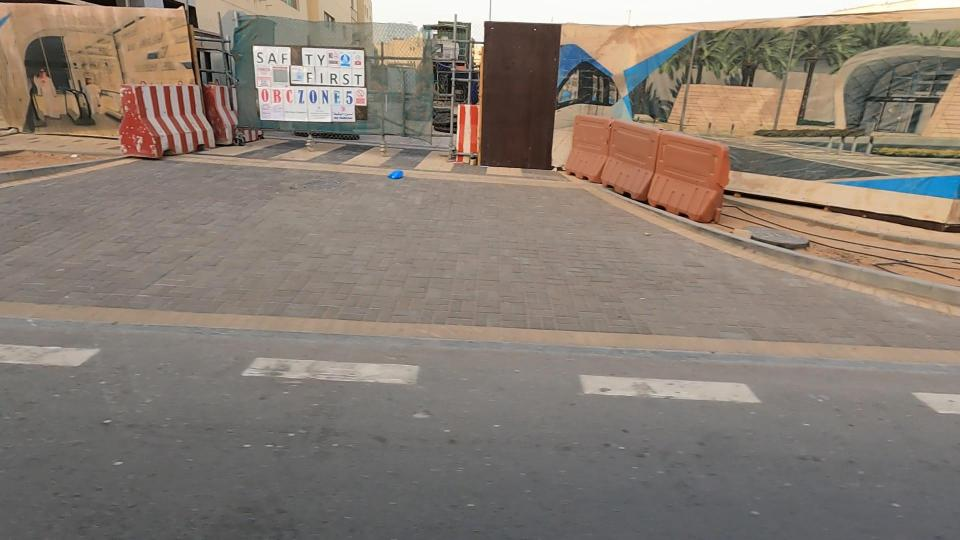GARBAGE: (363, 144, 437, 210)
